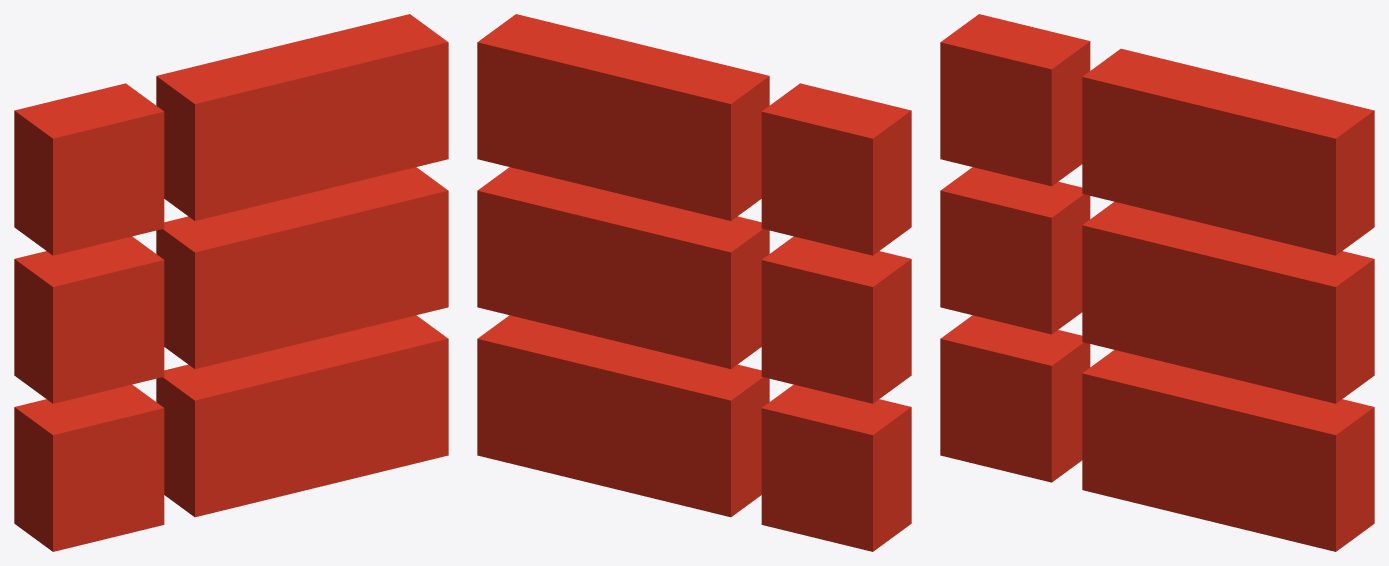
The model's file is Icon_Menu_04.fbx.
3 views of the same model, side by side, from view 1: azimuth 30°, elevation 25°; view 2: azimuth 150°, elevation 25°; view 3: azimuth 330°, elevation 25° (orthographic).
Parts seen in each view (by area): view 1: Icon_Menu_04; view 2: Icon_Menu_04; view 3: Icon_Menu_04.
Boxes of the visible parts, <box> form: Icon_Menu_04: <box>14,14,448,551</box>; Icon_Menu_04: <box>477,14,911,551</box>; Icon_Menu_04: <box>940,14,1374,551</box>.
Size of the model in its own units: 71.31 by 71.2 by 12.06.
